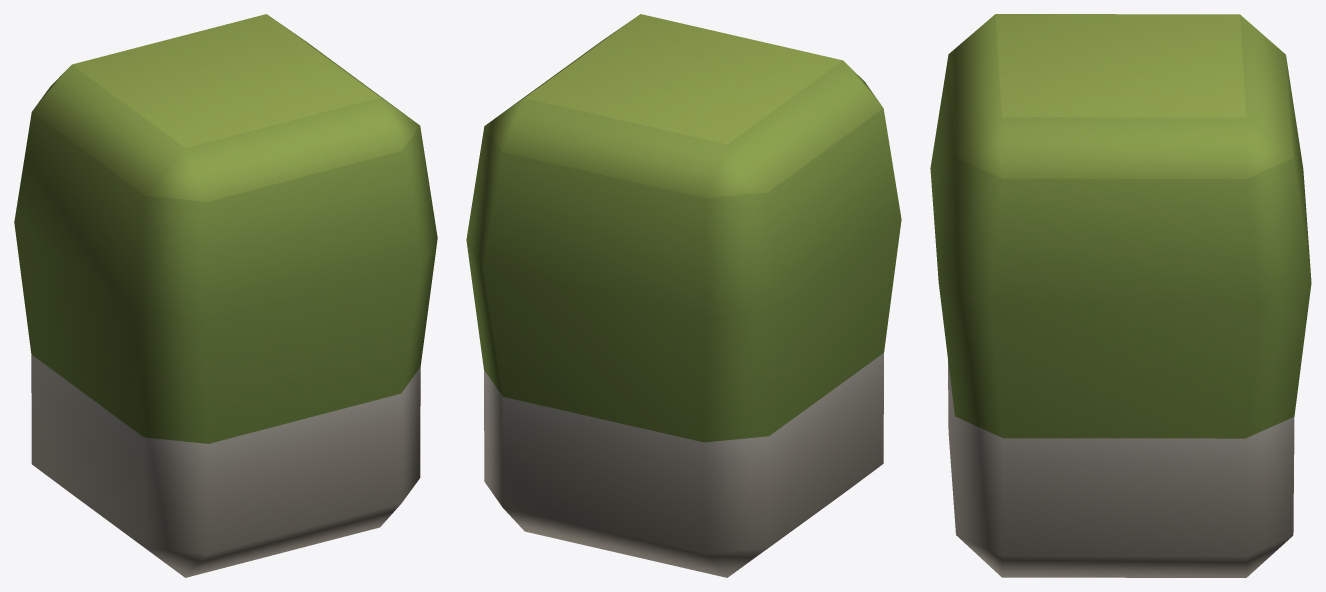
The model's file is hedge_rooftop_05x05.fbx.
3 renders of one model, left to right at view 1: azimuth 30°, elevation 25°; view 2: azimuth 150°, elevation 25°; view 3: azimuth 270°, elevation 25°, orthographic. The views are drawn at different scales.
Visible parts, largest first — view 1: hedge_rooftop_05x05; view 2: hedge_rooftop_05x05; view 3: hedge_rooftop_05x05.
Part boxes in pixels (x1,y1,x2,y2): hedge_rooftop_05x05: [14, 14, 437, 577]; hedge_rooftop_05x05: [466, 14, 901, 577]; hedge_rooftop_05x05: [930, 14, 1311, 577].
Size of the model in its own units: 60.79 by 82.42 by 61.85.
